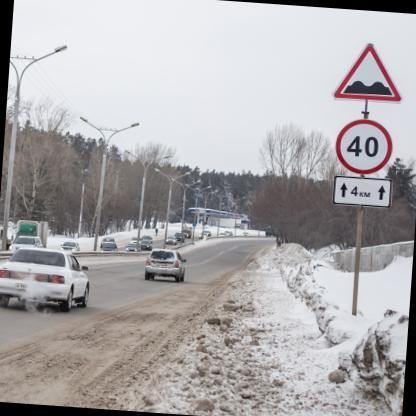road_sign: (336, 44, 401, 102), (336, 119, 391, 174), (334, 177, 392, 207)
